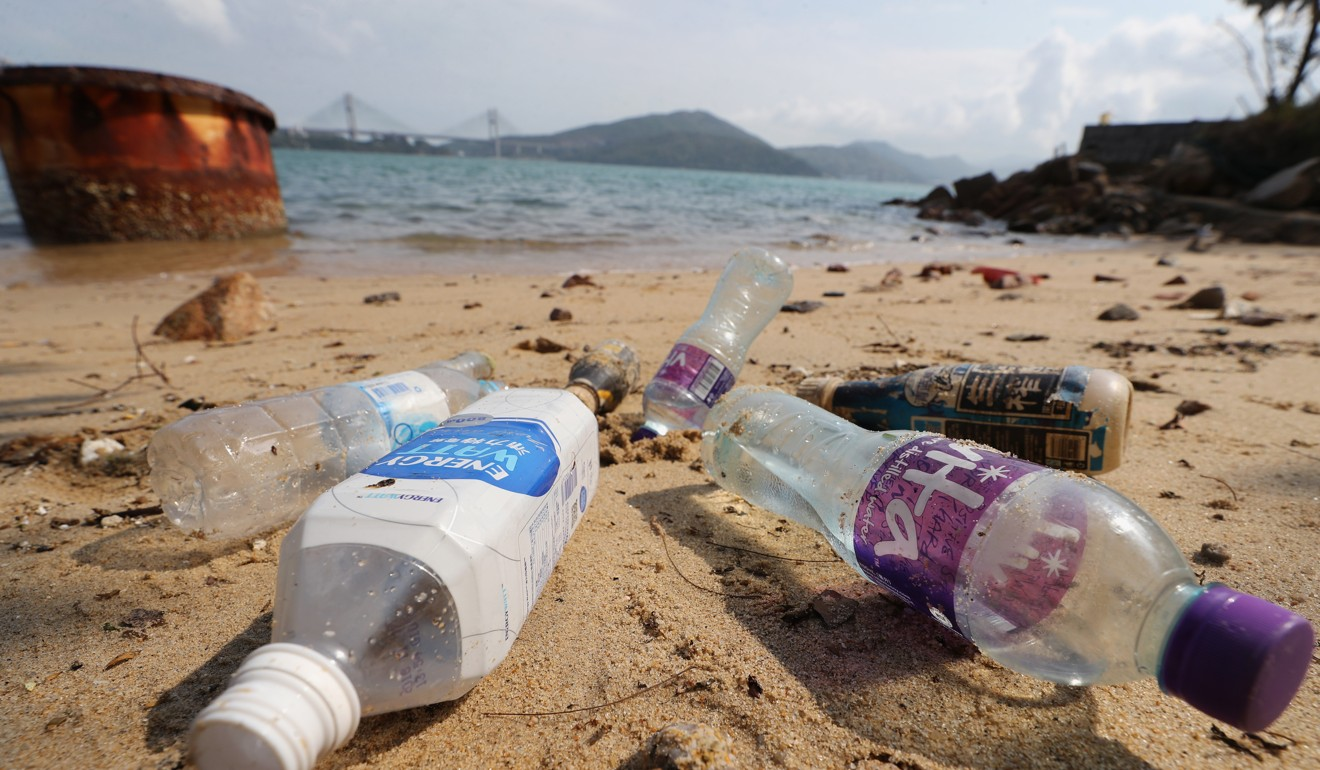bottle: (699, 385, 1320, 734), (198, 387, 596, 764), (140, 356, 501, 510), (638, 247, 786, 459)
